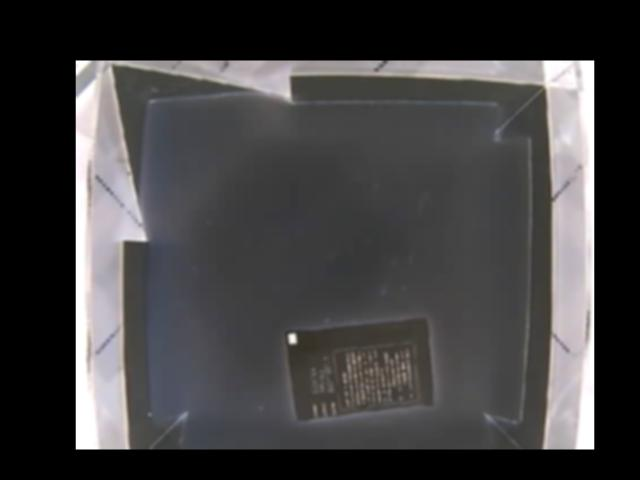Medicine: (283, 314, 442, 420)
